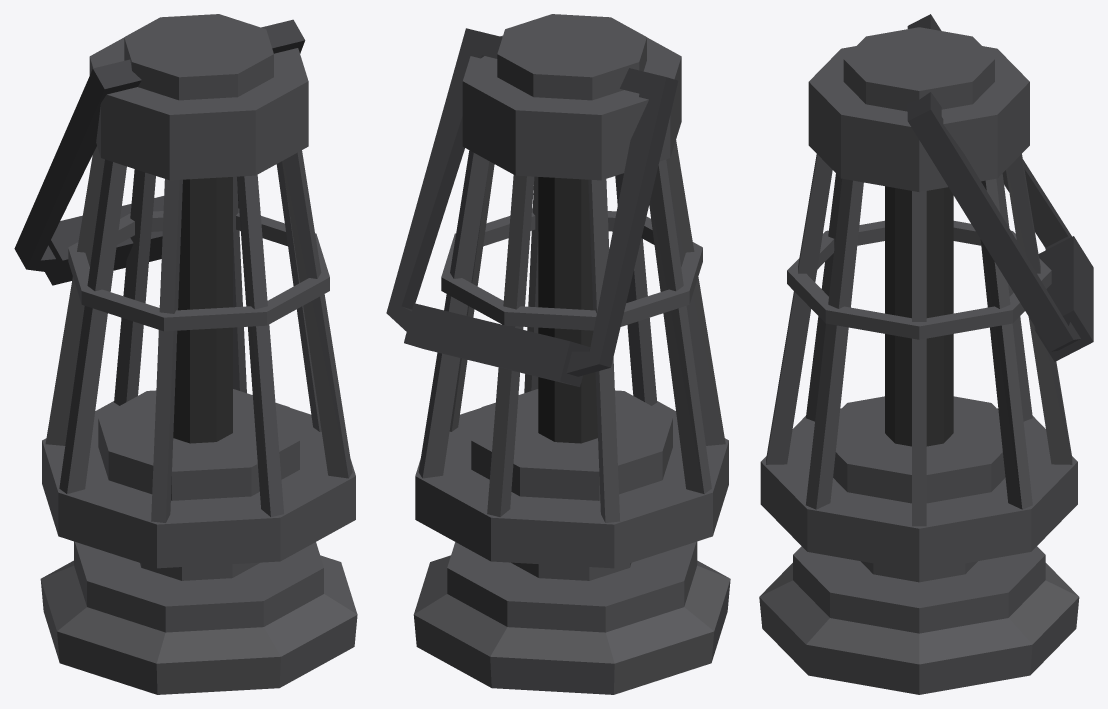
Rendered from SM_Prop_Lantern_01.glb.
The picture shows the model from 3 angles, left to right: view 1: azimuth 30°, elevation 25°; view 2: azimuth 150°, elevation 25°; view 3: azimuth 270°, elevation 25°; orthographic projection. The views are drawn at different scales.
Visible parts, largest first — view 1: SM_Prop_Lantern_01_part00; view 2: SM_Prop_Lantern_01_part00; view 3: SM_Prop_Lantern_01_part00.
Part boxes in pixels (x1,y1,x2,y2): SM_Prop_Lantern_01_part00: (14, 14, 357, 694); SM_Prop_Lantern_01_part00: (386, 14, 730, 694); SM_Prop_Lantern_01_part00: (759, 14, 1093, 694).
Size of the model in its own units: 0.3072 by 0.6029 by 0.3209.
1 material, 1 textured.
